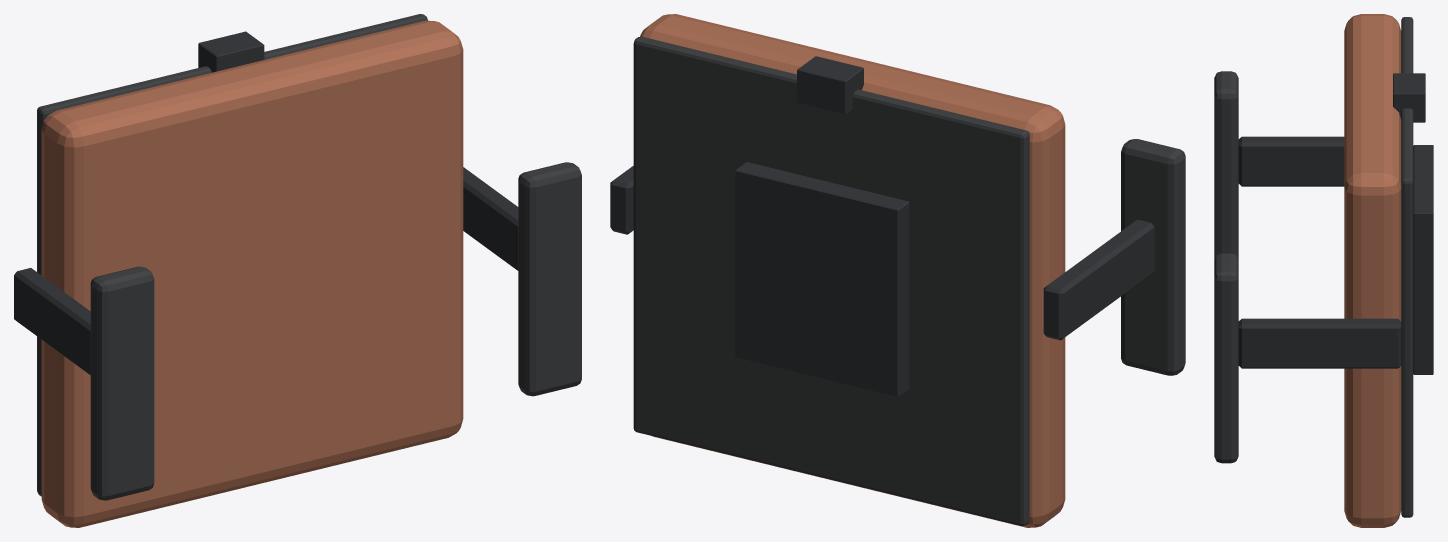
File: swivel_office_chair_seat.glb
3 renders of one model, left to right at view 1: azimuth 30°, elevation 25°; view 2: azimuth 150°, elevation 25°; view 3: azimuth 270°, elevation 25°, orthographic. The views are drawn at different scales.
Parts seen in each view (by area): view 1: export_tmp; view 2: export_tmp; view 3: export_tmp.
Boxes of the visible parts, left/top/right/bottom form: export_tmp: left=14, top=14, right=581, bottom=527; export_tmp: left=610, top=14, right=1185, bottom=527; export_tmp: left=1214, top=14, right=1433, bottom=527.
Bounding box in the file's own units: 0.6 × 0.495 × 0.27.
